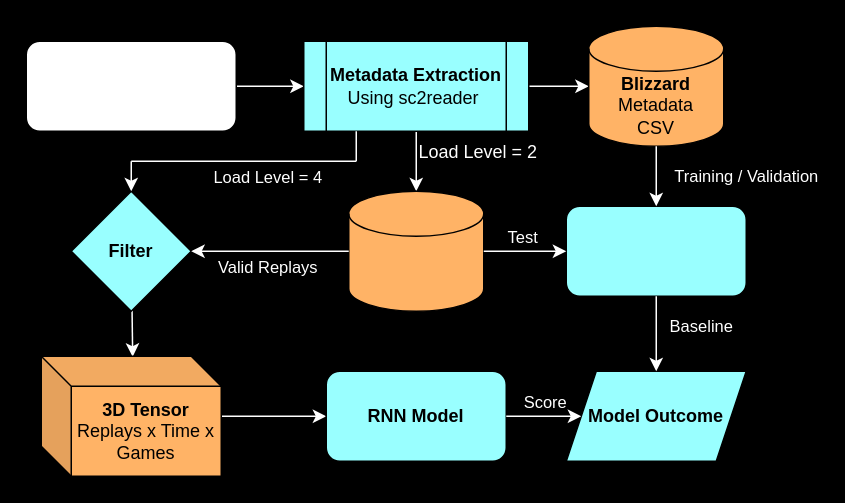
The diagram is 845 pixels wide and 503 high, and some of its shapes have lost their labels. Here are the shapes that lost their labels. From the top down, the centre of each, then its label:
At (130,85): "REPLAY FILES SpawningTool ~ 42,000 Blizzard ~ 1,200,000".
At (415,250): "SpawningTool Metadata CSV".
At (655,250): "Metadata Model Logistic Regression".
